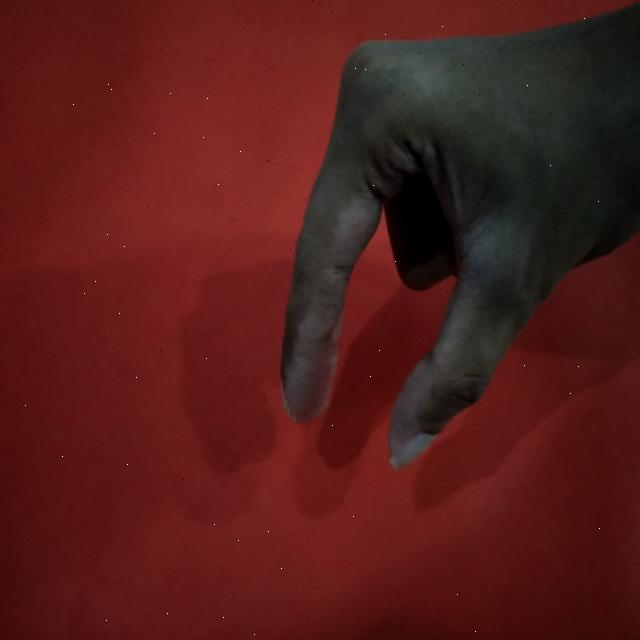Q: (269, 0, 640, 471)
